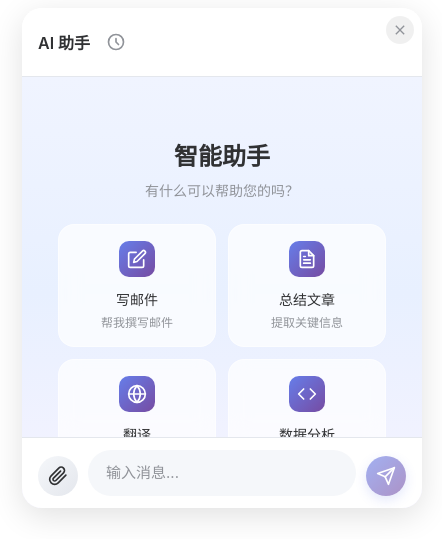
Test: FloatingChatPanel Component › Boundary Cases › should render correctly with empty topics array
The width and height of the screenshot is (442, 539).
Click the button with class "chat-header__btn" at [116, 42], box [98,24,134,60]
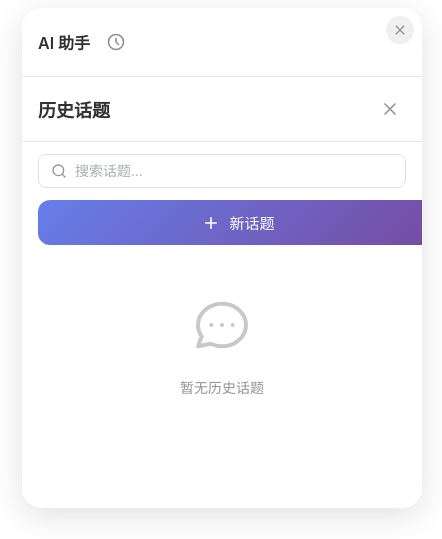
Check: the element showing "历史话题 新话题 暂无历史话题" is shown
